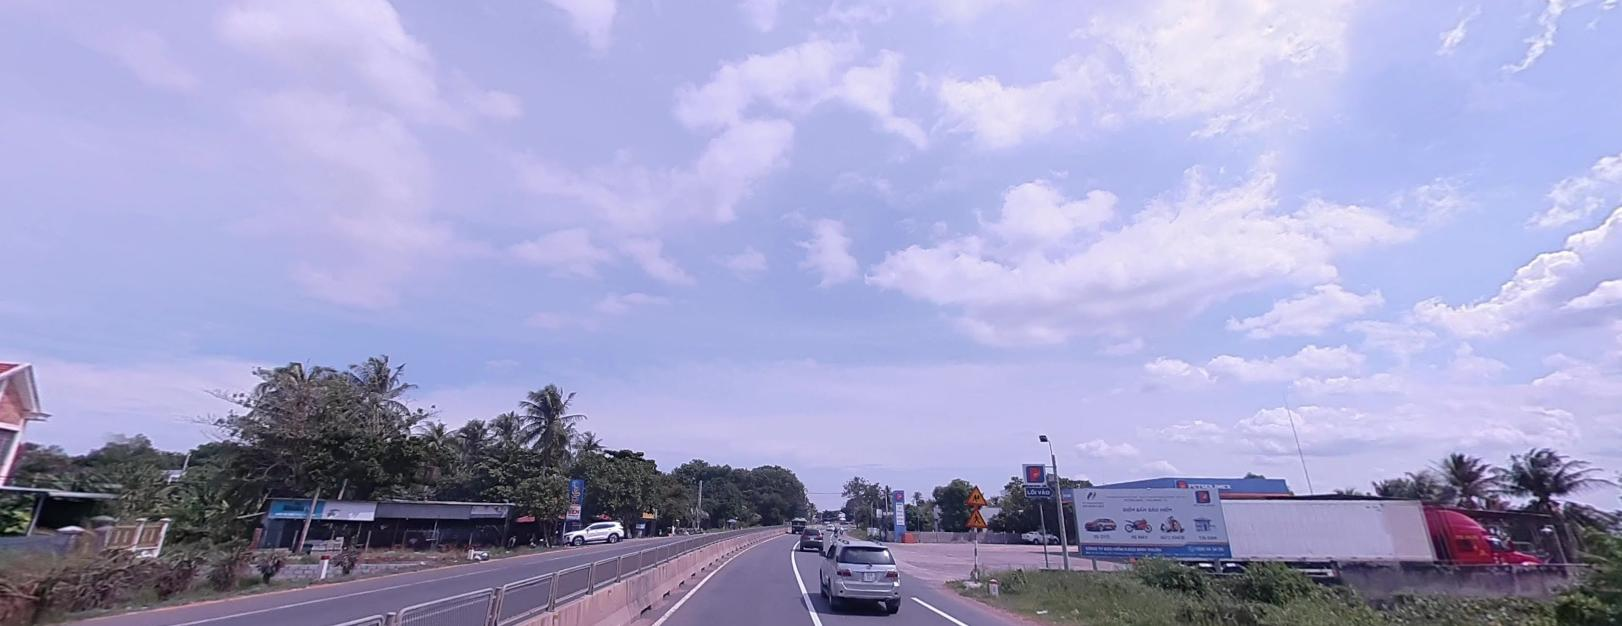Nguy hiem: (966, 483, 989, 504), (965, 507, 987, 527), (964, 484, 986, 504), (965, 508, 987, 527)
